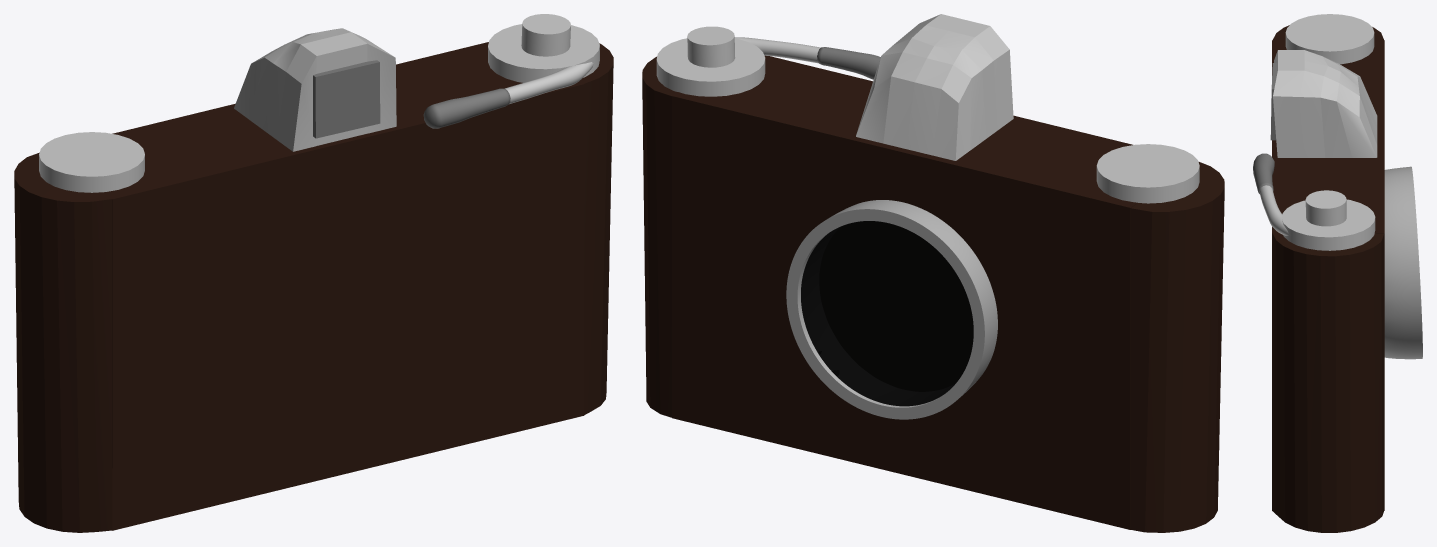
The model's file is Camera.fbx.
3 views of the same model, side by side, from view 1: azimuth 30°, elevation 25°; view 2: azimuth 150°, elevation 25°; view 3: azimuth 270°, elevation 25° (orthographic). The views are drawn at different scales.
Parts seen in each view (by area): view 1: s.0086, s.0088, p.0090, p.0097, p.0091, s.0096, p.0092, s.0095; view 2: s.0086, p.0106, s.0088, s.0105, p.0090, p.0091, p.0092, s.0096, s.0095; view 3: s.0086, s.0088, s.0105, p.0090, p.0091, p.0092, s.0095, s.0096, p.0097.
Boxes of the visible parts, x1,y1,x2,y2 form: s.0086: [14, 42, 613, 532]; s.0088: [234, 28, 396, 151]; p.0090: [39, 132, 144, 192]; p.0097: [313, 60, 380, 138]; p.0091: [488, 24, 599, 82]; s.0096: [423, 88, 510, 128]; p.0092: [521, 14, 570, 56]; s.0095: [505, 62, 594, 104]; s.0086: [642, 55, 1224, 532]; p.0106: [801, 221, 973, 406]; s.0088: [856, 14, 1013, 160]; s.0105: [786, 200, 997, 419]; p.0090: [1096, 144, 1199, 203]; p.0091: [656, 38, 765, 96]; p.0092: [687, 26, 735, 67]; s.0096: [817, 47, 880, 79]; s.0095: [734, 37, 820, 63]; s.0086: [1272, 25, 1384, 532]; s.0088: [1273, 50, 1377, 157]; s.0105: [1384, 166, 1422, 359]; p.0090: [1285, 14, 1374, 64]; p.0091: [1281, 199, 1375, 250]; p.0092: [1305, 190, 1346, 226]; s.0095: [1259, 185, 1290, 235]; s.0096: [1253, 153, 1274, 193]; p.0097: [1270, 63, 1277, 140].
Size of the model in its own units: 25.7 by 17.91 by 7.76.
